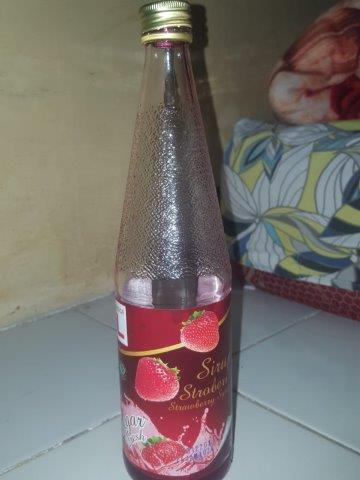botolkaca: (113, 3, 236, 480)
